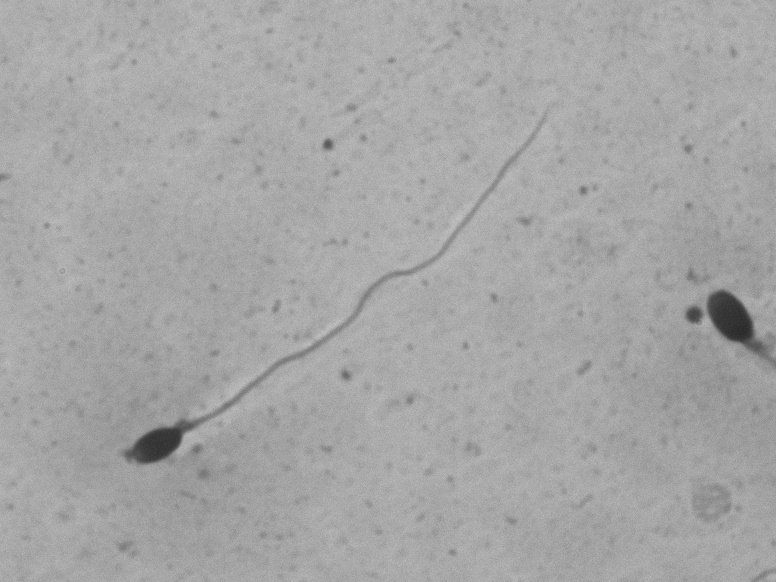Abnormal: (106, 61, 580, 489)
